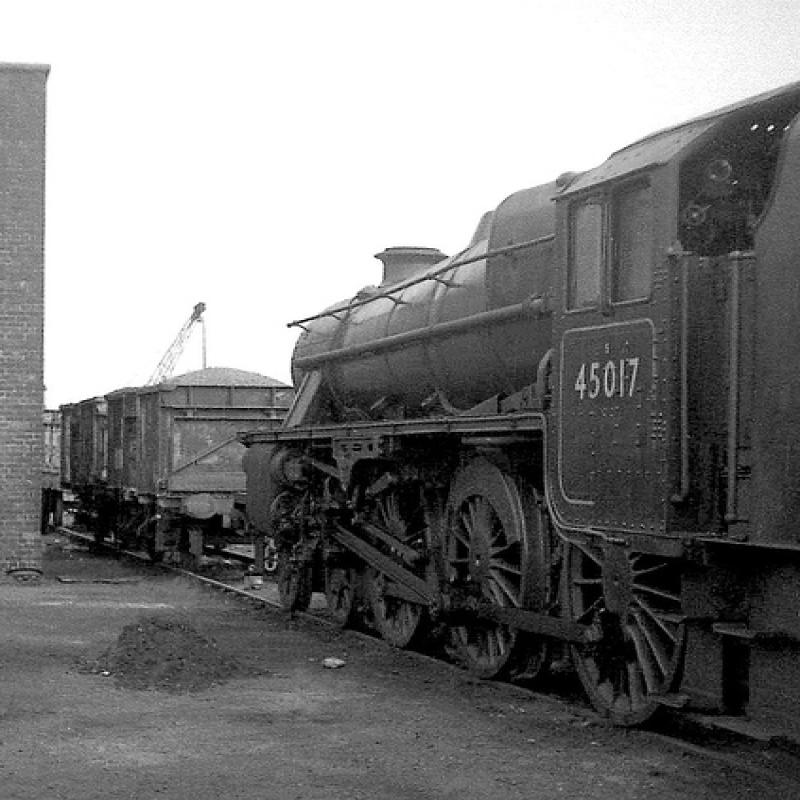train: (230, 70, 799, 753), (39, 367, 296, 569)
